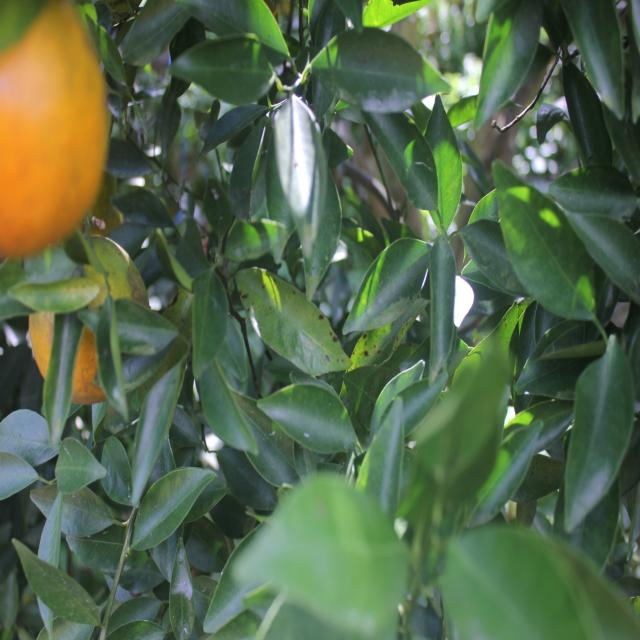melanose: (236, 262, 347, 391), (348, 284, 430, 378)
